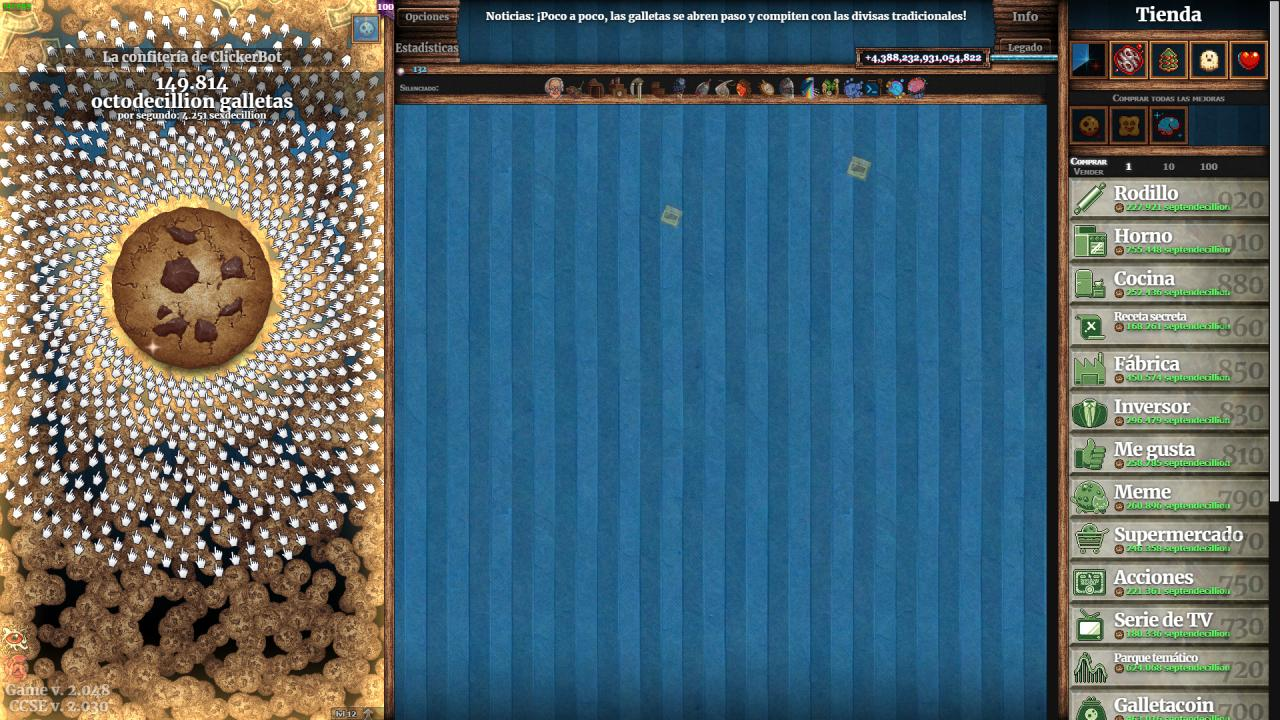GoldenCartridge: (844, 153, 874, 183), (658, 203, 686, 229)
